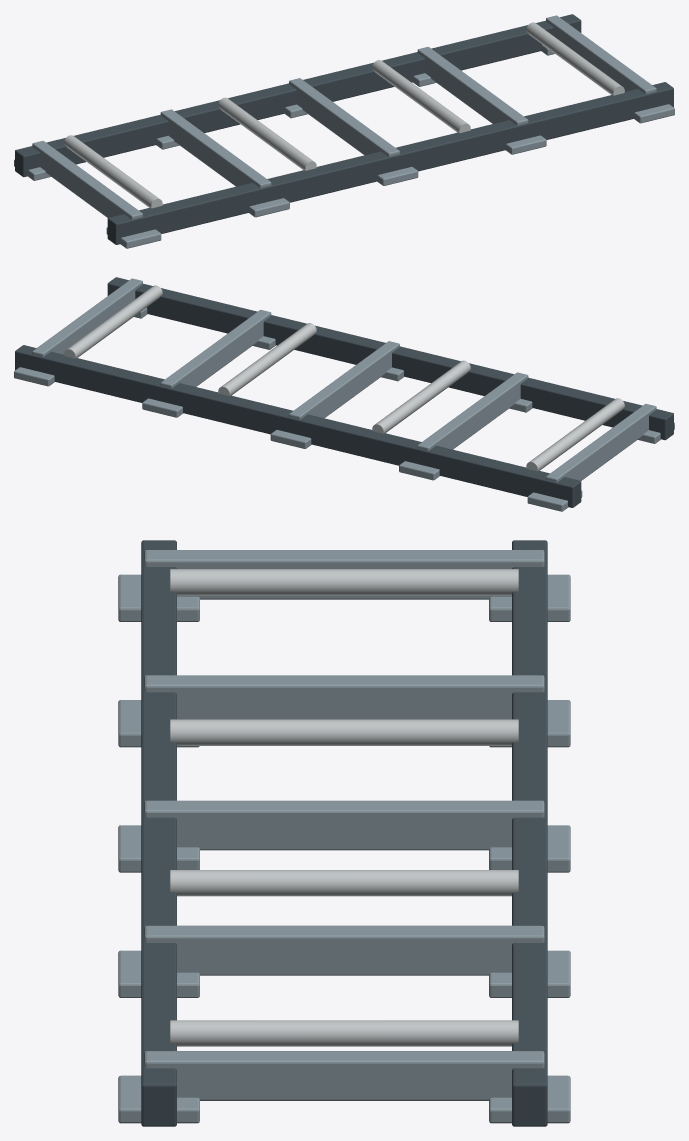
File: pit_cad_transfer_base_v1.glb
3 views of the same model, one above another, from view 1: azimuth 30°, elevation 25°; view 2: azimuth 150°, elevation 25°; view 3: azimuth 270°, elevation 25° (orthographic). The views are drawn at different scales.
Parts seen in each view (by area): view 1: pit_cad_transfer_base_v1_recessed_steel, pit_cad_transfer_base_v1_galvanized_structural_steel, pit_cad_transfer_base_v1_machined_fasteners; view 2: pit_cad_transfer_base_v1_recessed_steel, pit_cad_transfer_base_v1_galvanized_structural_steel, pit_cad_transfer_base_v1_machined_fasteners; view 3: pit_cad_transfer_base_v1_galvanized_structural_steel, pit_cad_transfer_base_v1_machined_fasteners, pit_cad_transfer_base_v1_recessed_steel.
Boxes of the visible parts, x1,y1,x2,y2 form: pit_cad_transfer_base_v1_recessed_steel: (15,14,673,244); pit_cad_transfer_base_v1_galvanized_structural_steel: (14,15,674,248); pit_cad_transfer_base_v1_machined_fasteners: (64,22,624,208); pit_cad_transfer_base_v1_recessed_steel: (15,277,673,507); pit_cad_transfer_base_v1_galvanized_structural_steel: (14,278,674,511); pit_cad_transfer_base_v1_machined_fasteners: (64,285,624,471); pit_cad_transfer_base_v1_galvanized_structural_steel: (118,550,570,1123); pit_cad_transfer_base_v1_machined_fasteners: (170,569,518,1046); pit_cad_transfer_base_v1_recessed_steel: (141,540,547,1126).
Size of the model in its own units: 8.7 by 0.45 by 3.05.
